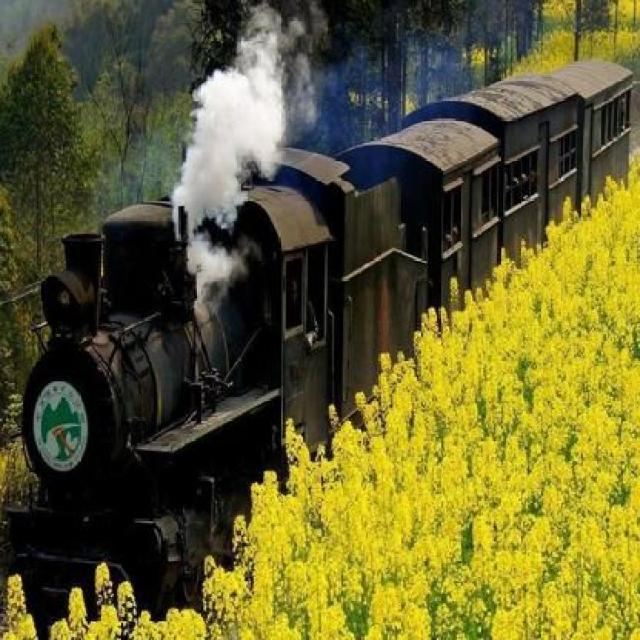Smoke: (175, 6, 294, 324)
